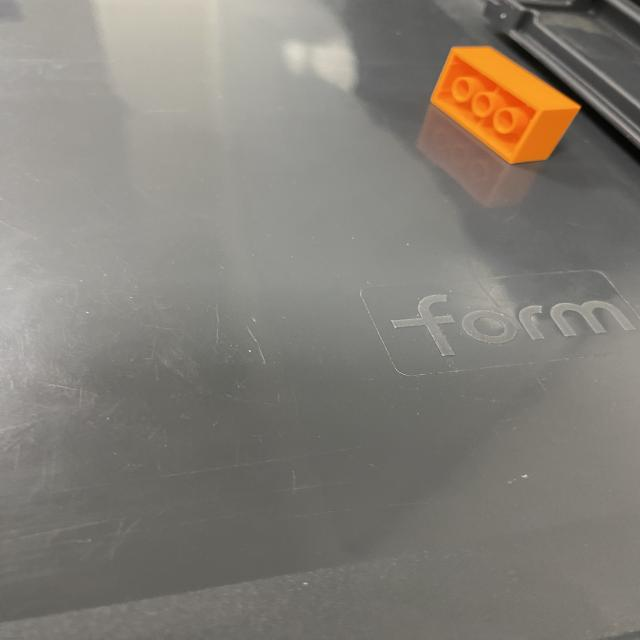C4x2x1: (432, 44, 577, 165)
